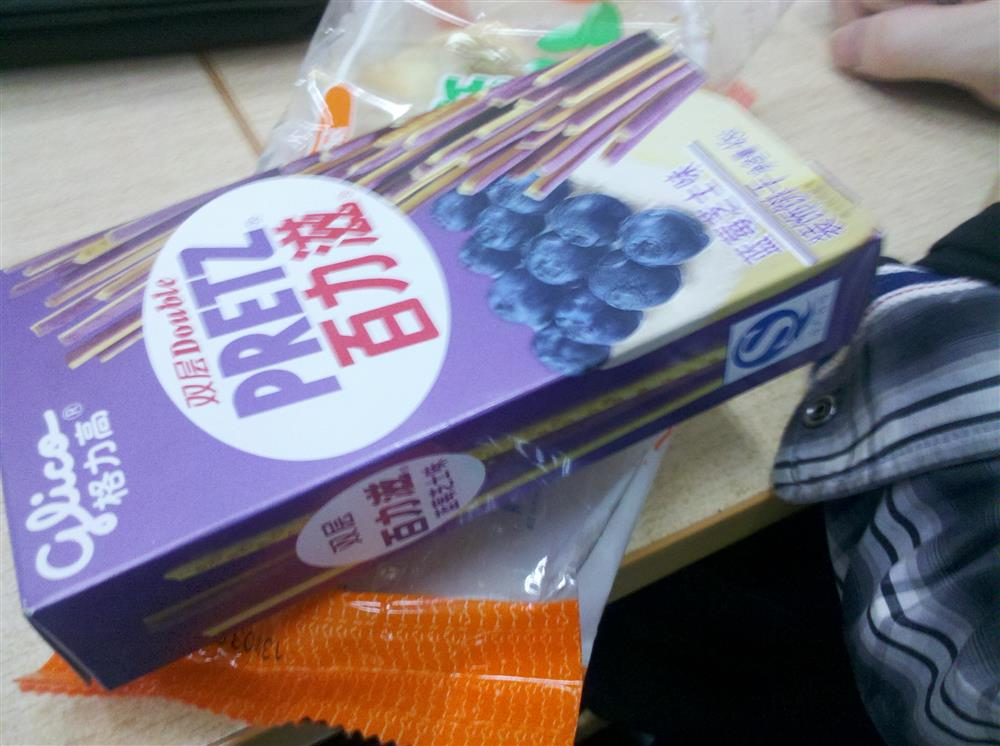Pretz: (6, 43, 875, 602)
